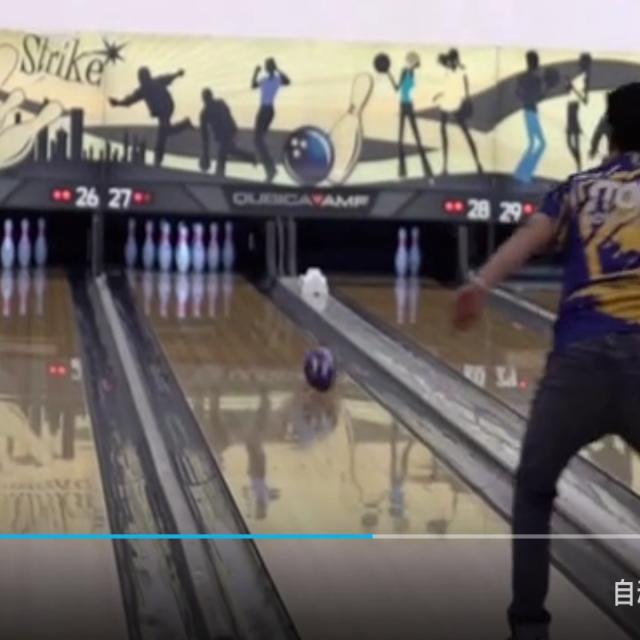alley: (127, 271, 505, 533)
balls: (304, 348, 336, 390)
bottle: (124, 217, 235, 273)
